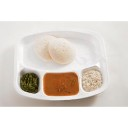idly: (50, 39, 79, 63), (37, 37, 58, 63)
